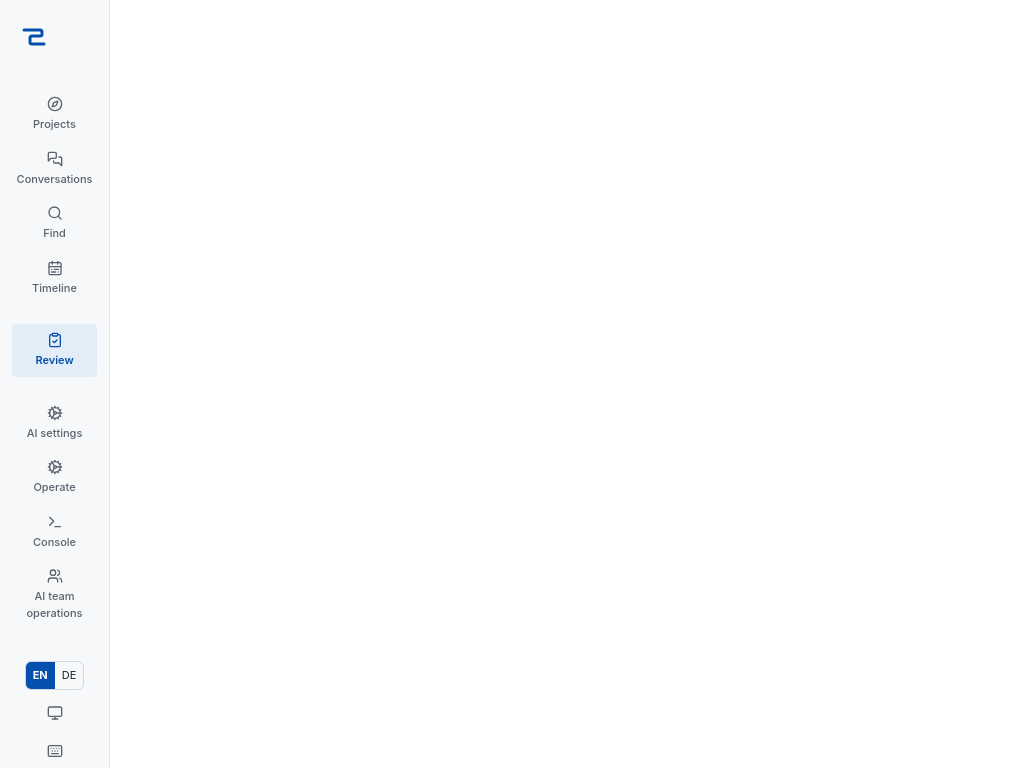
Test: Shell › opens keyboard help with the command palette and every go chord
Click the button named "keyboard shortcuts": (54, 750) [40,736,70,766]
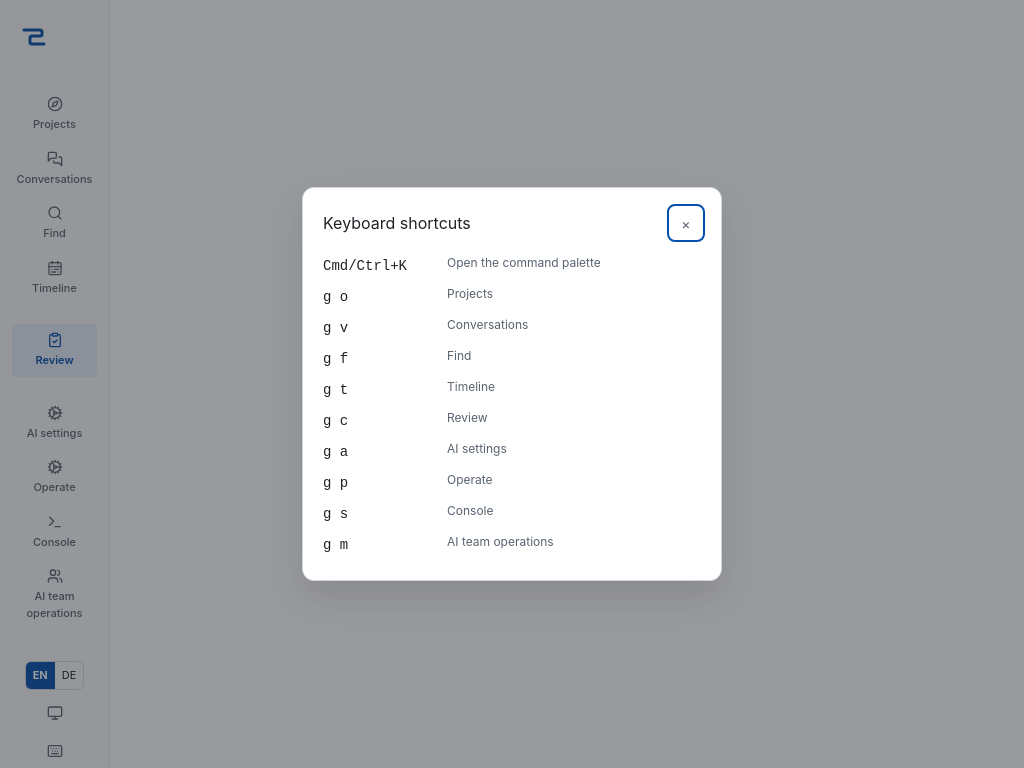
Check: the text "Cmd/Ctrl+K" is shown, box [323,258,407,274]
Check: the text "g o" is shown, box [323,289,348,305]
Check: the text "g f" is shown, box [323,351,348,367]
